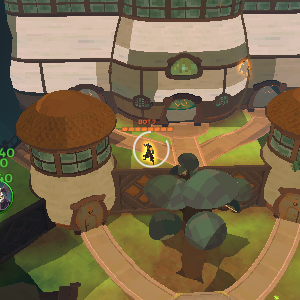model: (138, 139, 158, 167), (238, 60, 254, 79)
